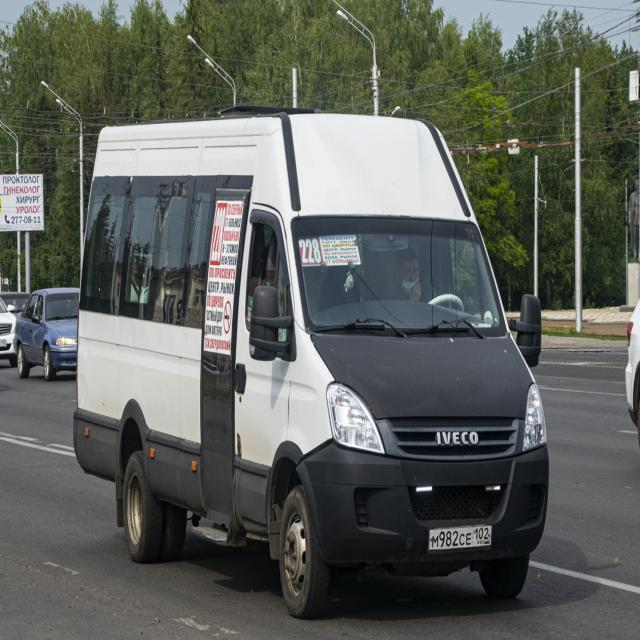number-of-bus: (301, 238, 320, 266)
